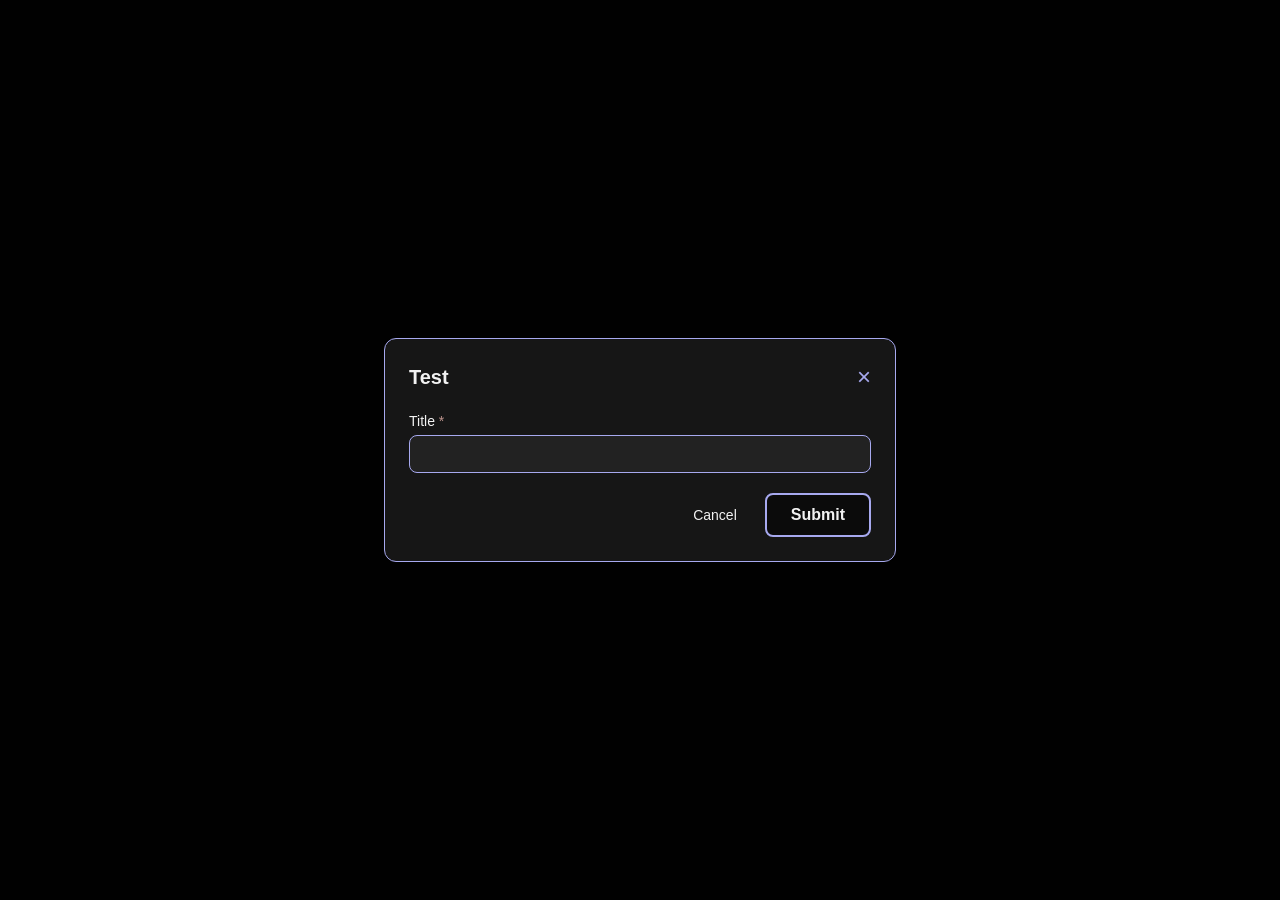
Scenario: Modal › shows validation error for empty required field on submit
The image size is (1280, 900).
Click the button "Submit" at [818, 515], box [765,493,871,537]
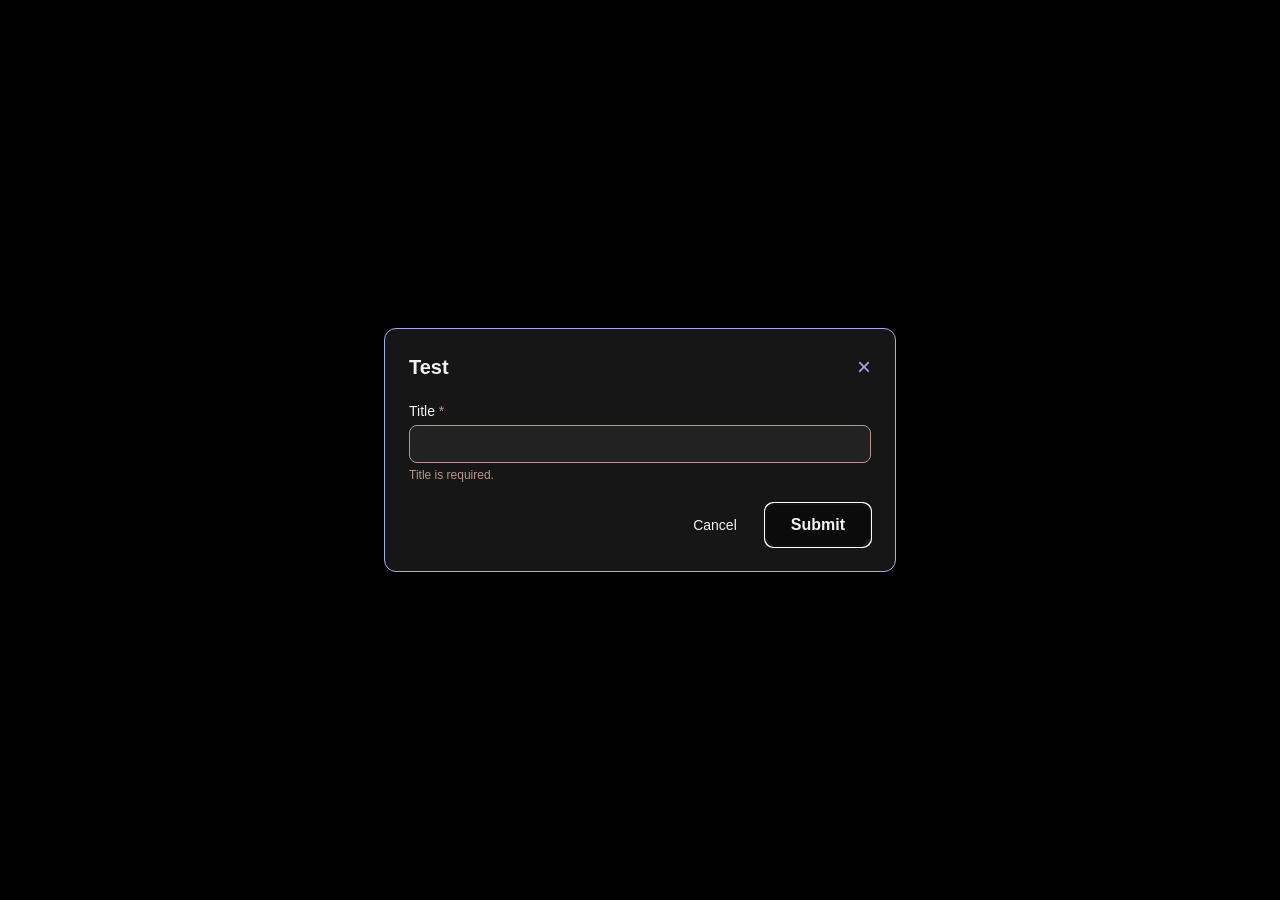
Check: the text "Title is required." is shown, box [409,468,494,482]
